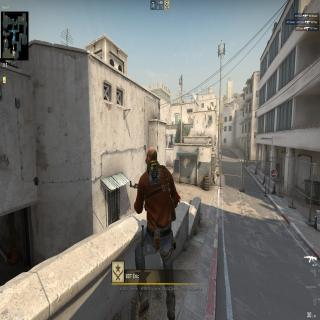T-Head: (144, 145, 160, 168)
